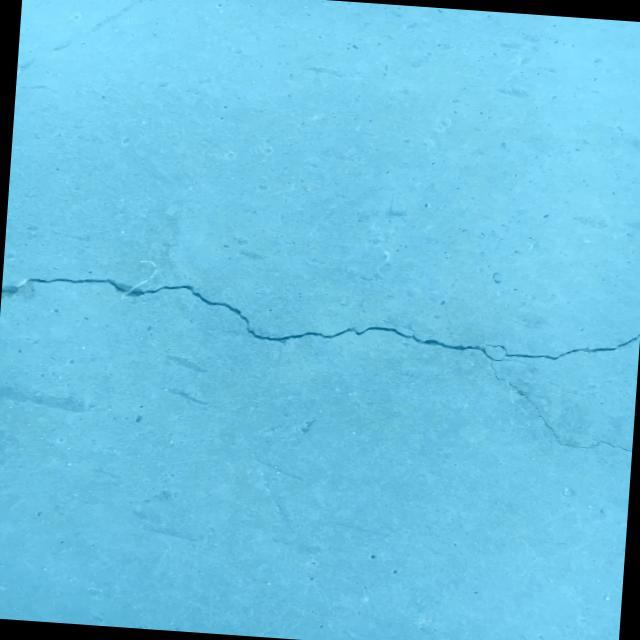crack: (0, 269, 640, 452)
